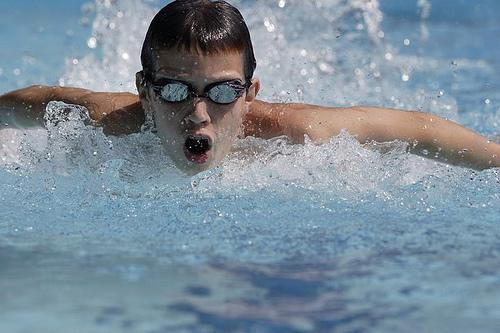human: (0, 4, 500, 174)
